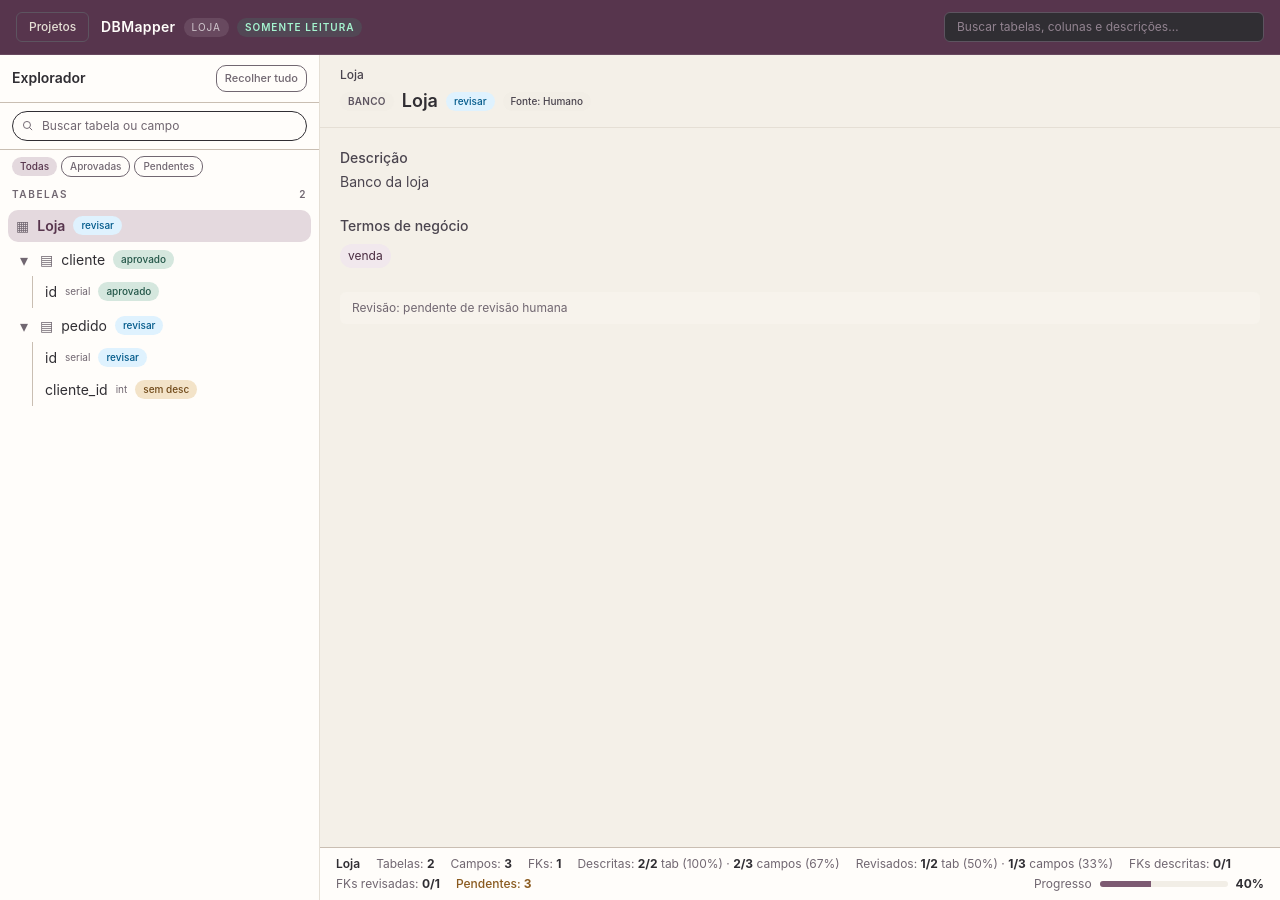
Test case: ViewerPage › detalhe mostra descrição, termos e a fonte do item sem controles de mutação
Click the button with test id "table-row-pedido".
click(84, 325)  # box top-left (40, 310), bottom-right (311, 342)
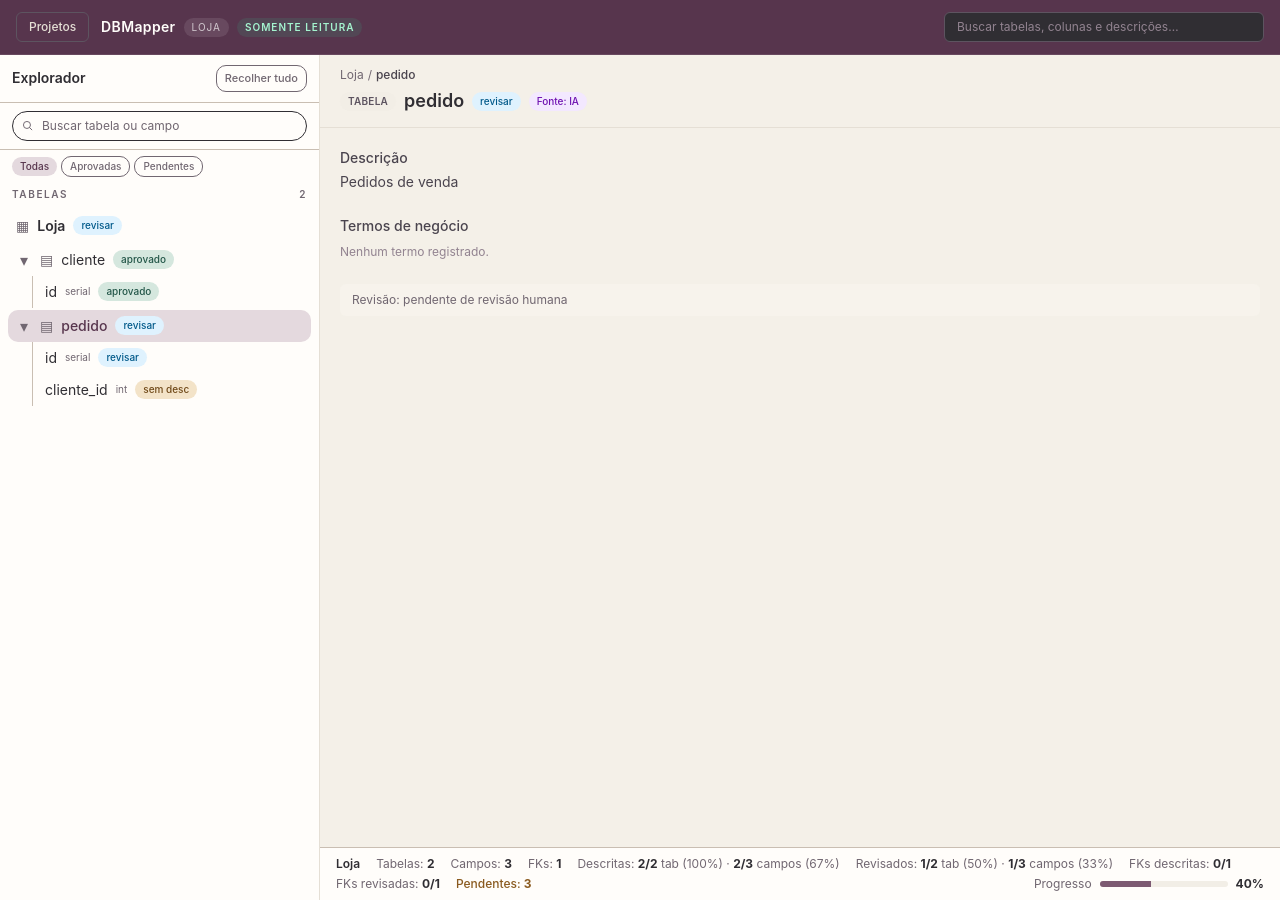
Expected: the text "revisar" next to "Fonte:" is shown, top-left (480, 94), bottom-right (513, 106)
Now the text with test id "viewer-description" reads "Pedidos de venda", box top-left (340, 173), bottom-right (458, 190)
Now the text with test id "viewer-source-badge" shows "IA", box top-left (569, 94), bottom-right (579, 106)
